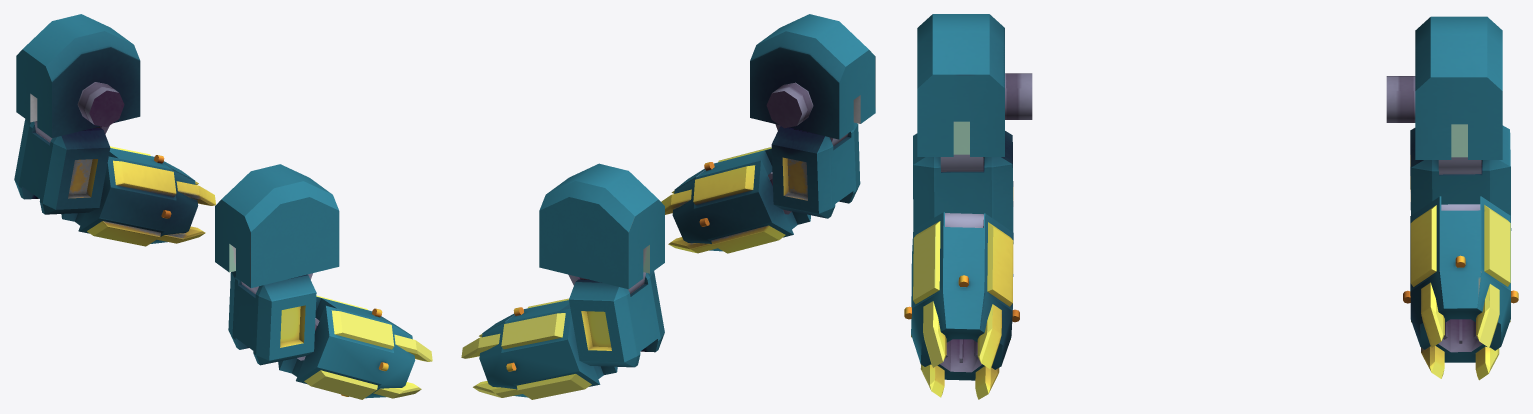
File: Player_Idle6.obj
The picture shows the model from 3 angles, left to right: view 1: azimuth 30°, elevation 25°; view 2: azimuth 150°, elevation 25°; view 3: azimuth 270°, elevation 25°; orthographic projection. The views are drawn at different scales.
Visible parts, largest first — view 1: Object005, Object003, Object001, Object007, Object006, Object002; view 2: Object003, Object005, Object001, Object007, Object006, Object002; view 3: Object001, Object007, Object005, Object003, Object002, Object006.
Boxes of the visible parts, x1,y1,x2,y2 form: Object005: (16,14,140,137); Object003: (215,164,339,287); Object001: (278,295,432,399); Object007: (61,146,215,246); Object006: (14,119,110,214); Object002: (228,271,316,365); Object003: (750,14,875,139); Object005: (539,163,664,289); Object001: (661,147,810,253); Object007: (461,298,617,399); Object006: (568,271,664,367); Object002: (771,122,860,218); Object001: (904,212,1019,399); Object007: (1403,196,1518,380); Object005: (1386,16,1502,159); Object003: (917,14,1032,156); Object002: (913,131,1013,231); Object006: (1410,125,1511,230).
Size of the model in its own units: 36.78 by 45.13 by 83.7.
1 material, 1 textured.
